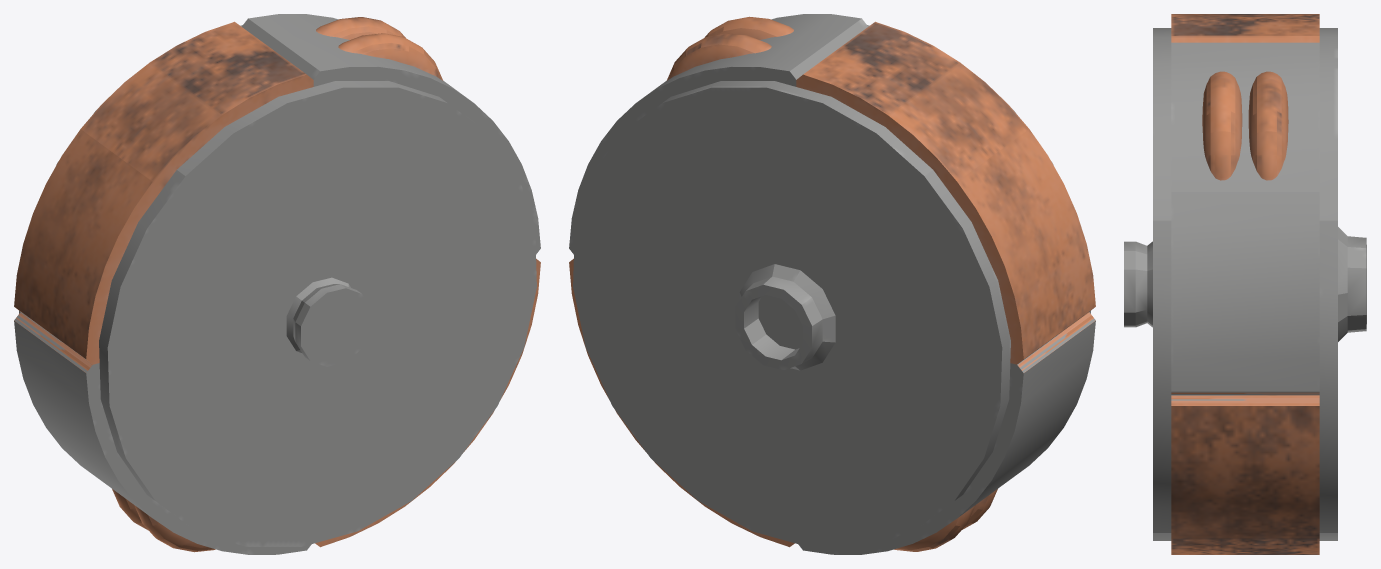
Rendered from module-animate-01.glb.
3 renders of one model, left to right at view 1: azimuth 30°, elevation 25°; view 2: azimuth 150°, elevation 25°; view 3: azimuth 270°, elevation 25°, orthographic. The views are drawn at different scales.
Visible parts, largest first — view 1: Mesh_0; view 2: Mesh_0; view 3: Mesh_0.
Boxes of the visible parts, <box> form: Mesh_0: <box>14,14,540,554</box>; Mesh_0: <box>569,14,1095,554</box>; Mesh_0: <box>1124,14,1366,554</box>.
Size of the model in its own units: 2.34 by 2.34 by 1.05.
Materials: 1 (1 with a texture image).
